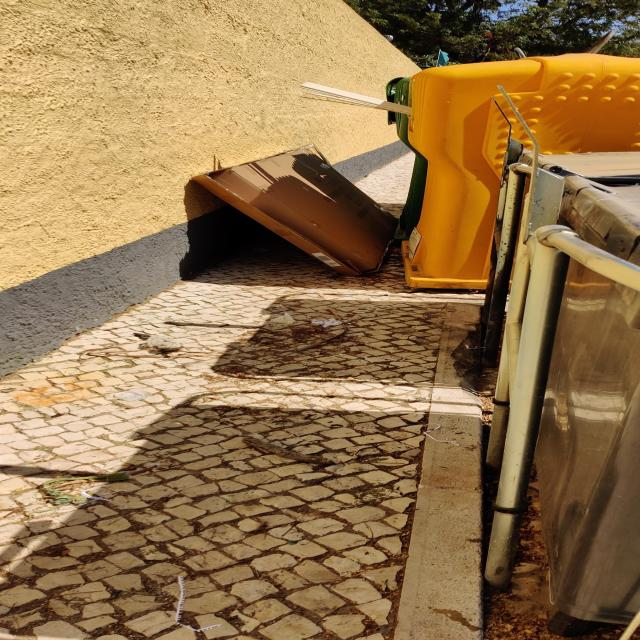litter: (151, 559, 259, 632)
